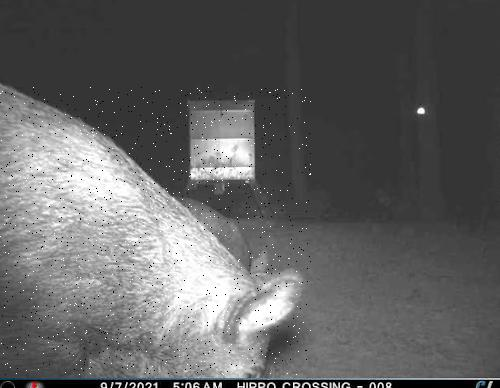Hog: (0, 87, 311, 375)
